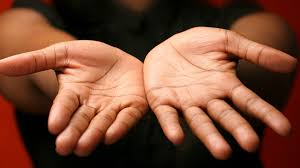palm: (151, 35, 234, 114), (66, 40, 141, 109)
